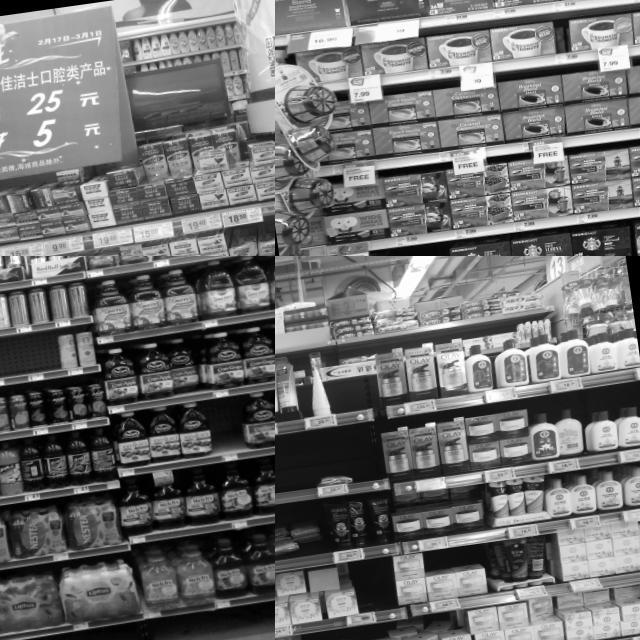empty: (275, 434, 317, 512), (354, 557, 400, 624), (348, 430, 387, 492), (208, 398, 244, 463), (329, 376, 374, 426), (0, 337, 22, 387)
